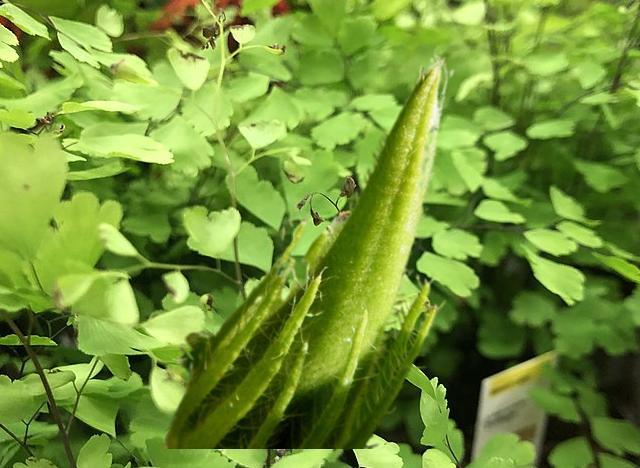okra: (158, 52, 454, 447)
